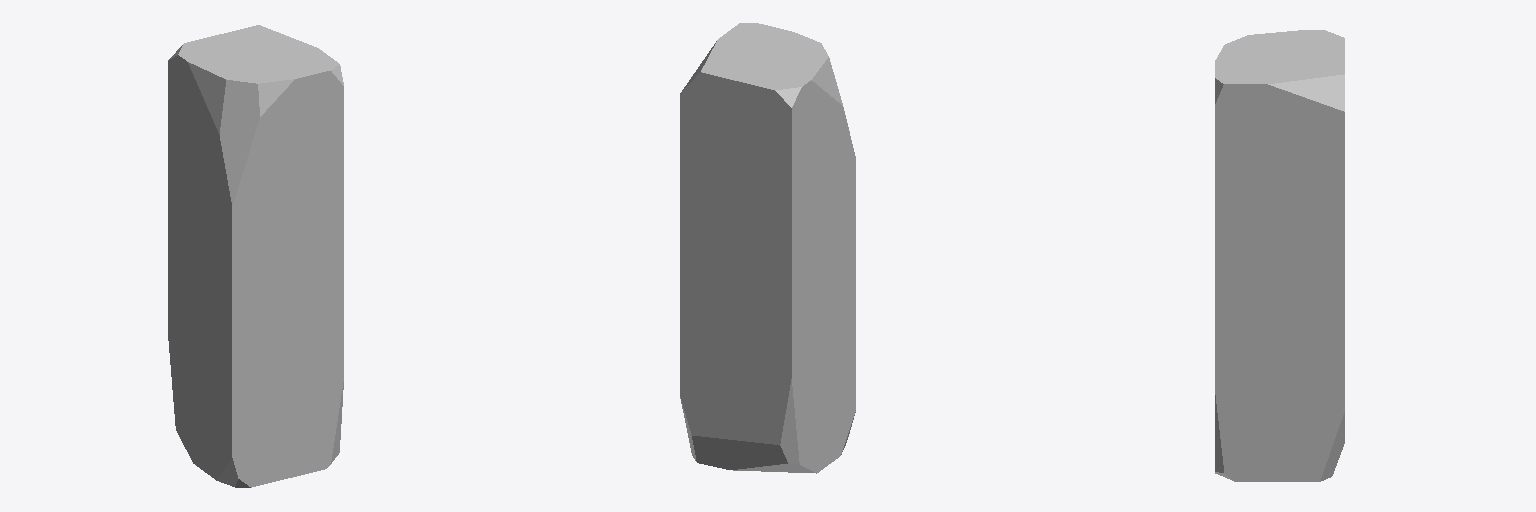
The model's file is RockPillar1.obj.
3 views of the same model, side by side, from view 1: azimuth 30°, elevation 25°; view 2: azimuth 150°, elevation 25°; view 3: azimuth 270°, elevation 25° (orthographic).
Visible parts, largest first — view 1: Cube_007; view 2: Cube_007; view 3: Cube_007.
Boxes of the visible parts, x1=… form: Cube_007: x1=168, y1=25, x2=343, y2=487; Cube_007: x1=680, y1=23, x2=855, y2=473; Cube_007: x1=1215, y1=30, x2=1344, y2=481.
Size of the model in its own units: 78.74 by 267 by 78.74.